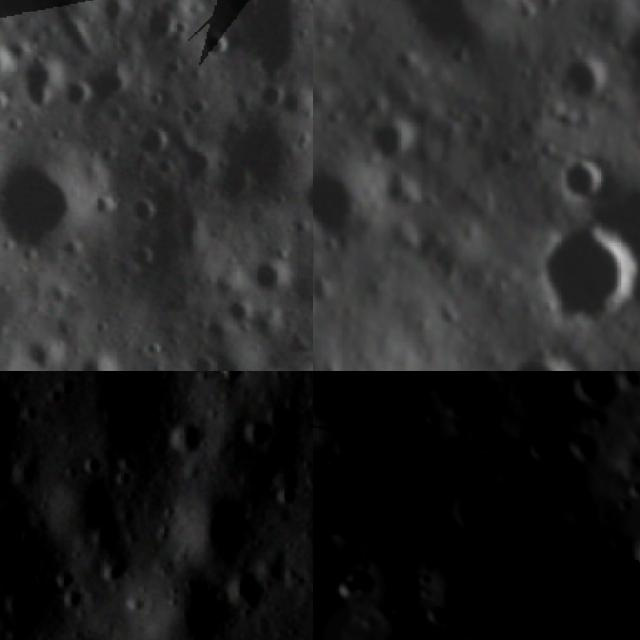crater: (413, 495, 593, 640), (0, 116, 124, 289), (528, 200, 640, 340), (313, 371, 410, 474), (0, 17, 95, 122), (52, 31, 154, 126), (180, 482, 269, 570), (512, 371, 591, 451), (153, 569, 240, 640), (313, 151, 374, 251), (215, 551, 291, 631), (481, 323, 601, 371), (230, 240, 302, 314), (360, 101, 434, 173), (545, 142, 617, 212), (600, 0, 640, 122), (551, 41, 618, 112), (437, 479, 502, 552), (123, 116, 183, 176), (274, 152, 313, 239), (114, 185, 172, 243), (0, 496, 41, 576), (377, 164, 435, 219), (184, 13, 238, 68), (213, 285, 267, 338), (569, 371, 635, 413), (313, 502, 369, 549), (63, 336, 132, 371), (491, 452, 534, 503), (619, 520, 640, 596), (173, 341, 226, 371), (313, 448, 334, 494), (612, 371, 640, 401), (298, 277, 313, 326), (213, 371, 252, 382)
